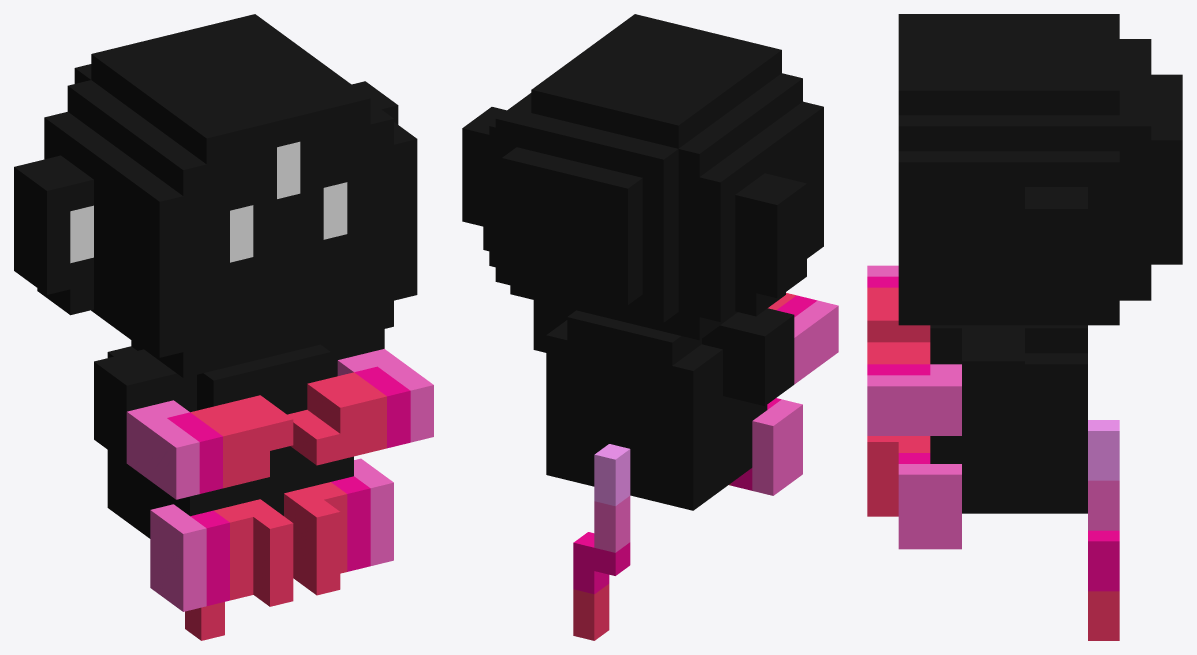
The model's file is CharacterRosa.FBX.
3 renders of one model, left to right at view 1: azimuth 30°, elevation 25°; view 2: azimuth 150°, elevation 25°; view 3: azimuth 270°, elevation 25°, orthographic. The views are drawn at different scales.
Parts seen in each view (by area): view 1: CharacterRosa; view 2: CharacterRosa; view 3: CharacterRosa.
Part boxes in pixels (box(x1,y1,x2,y2)): CharacterRosa: box(14, 14, 433, 640); CharacterRosa: box(462, 14, 838, 640); CharacterRosa: box(867, 14, 1182, 640).
Size of the model in its own units: 0.8 by 1.3 by 0.65.
1 material, 1 textured.
